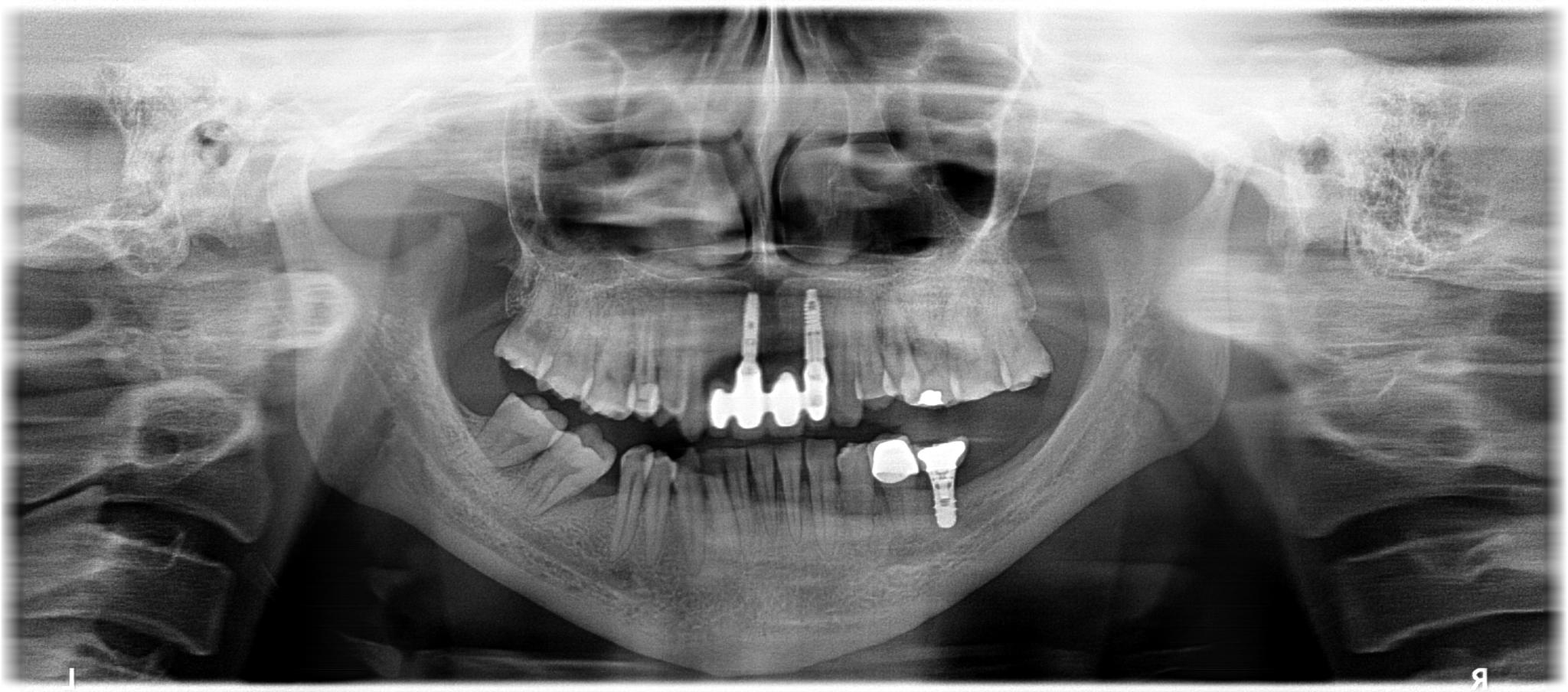Premolars: (322, 196, 961, 575)
